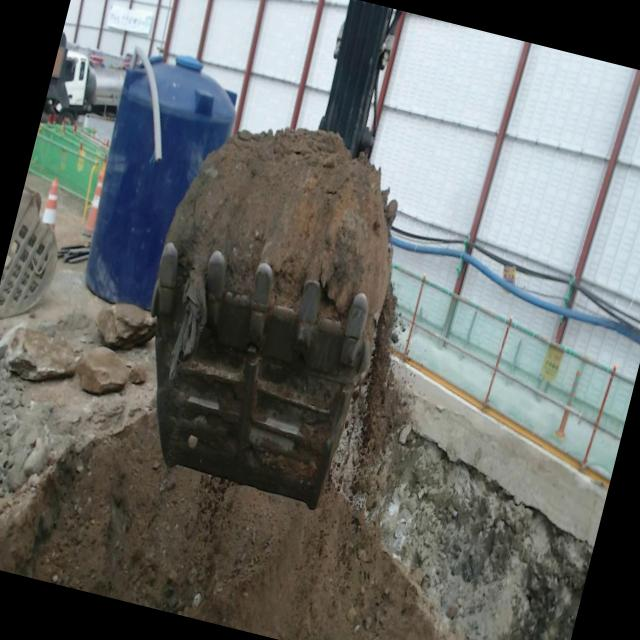red-sand: (0, 415, 440, 640), (166, 128, 395, 343)
stone: (5, 327, 79, 381), (96, 303, 155, 350), (75, 346, 129, 394)
